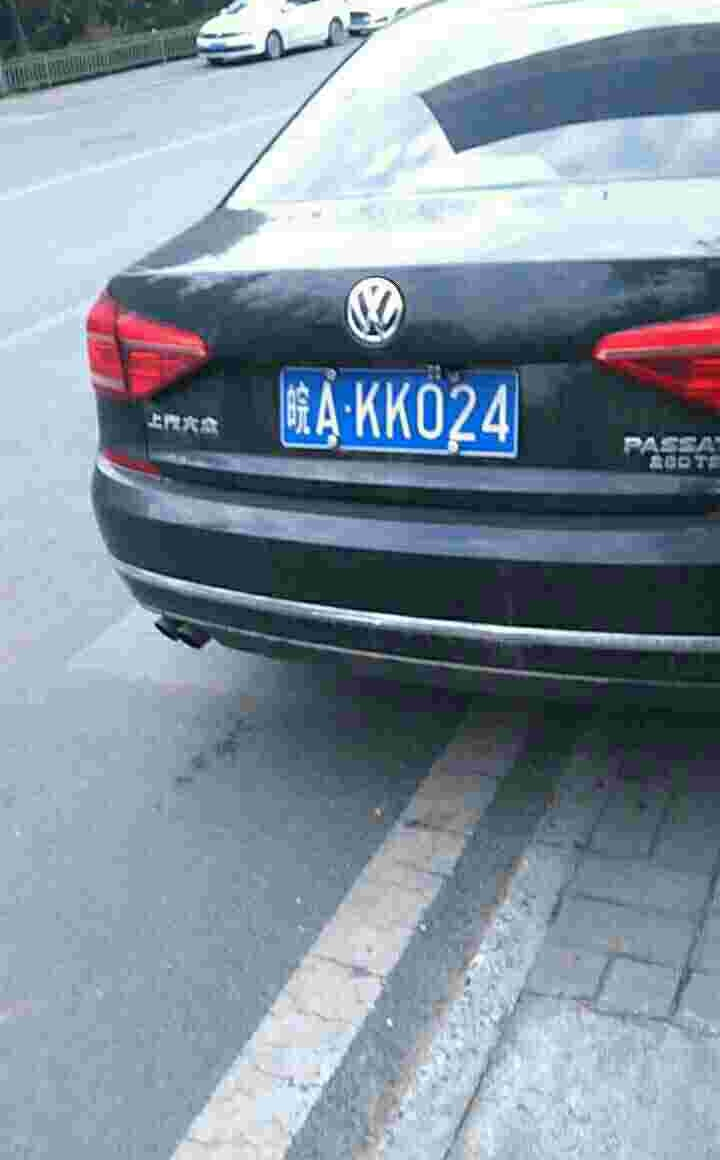license_plate: (283, 370, 529, 461)
